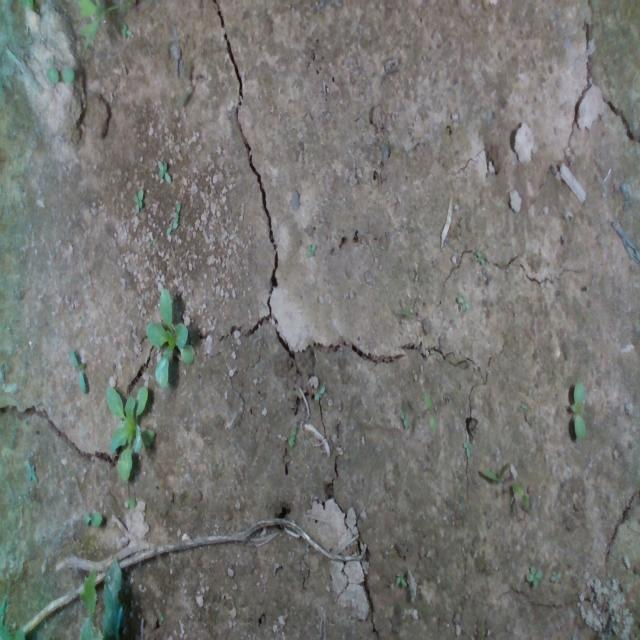weed: (566, 374, 594, 446), (67, 341, 91, 403), (166, 196, 186, 242), (524, 558, 548, 596), (154, 154, 174, 191), (421, 389, 437, 432), (310, 376, 328, 410), (84, 501, 104, 531), (44, 66, 76, 84), (132, 182, 146, 220), (303, 236, 322, 262), (288, 422, 298, 446), (462, 441, 472, 457)
